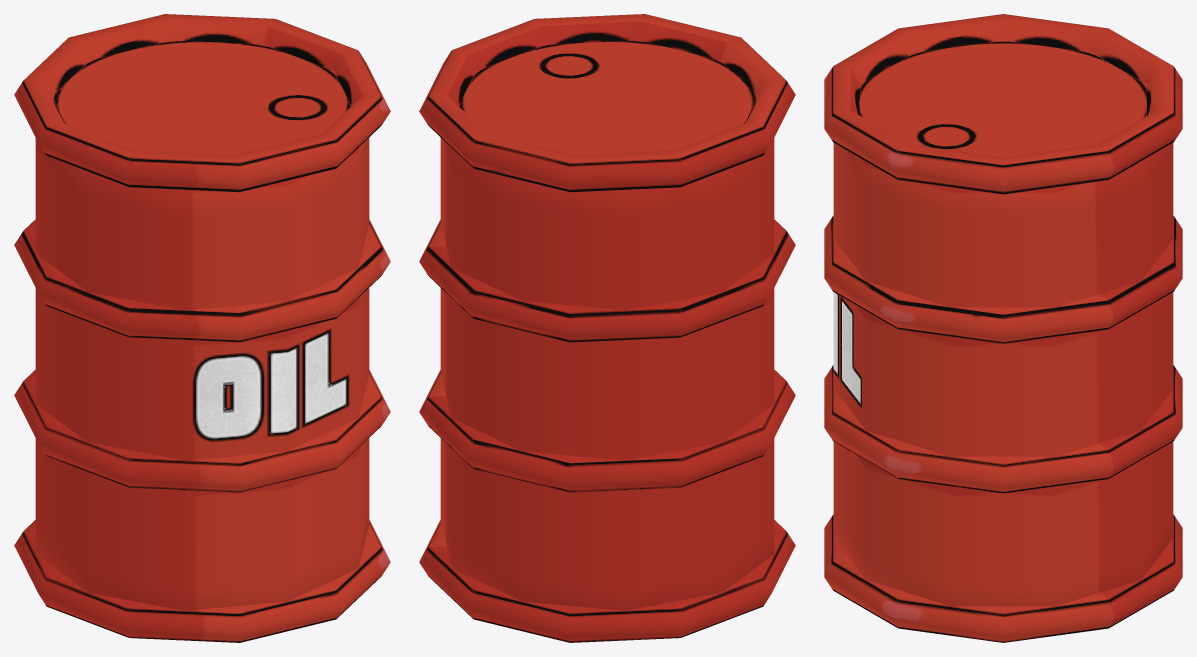
File: Oil_Barrel_Low_Poly.glb
The picture shows the model from 3 angles, left to right: view 1: azimuth 30°, elevation 25°; view 2: azimuth 150°, elevation 25°; view 3: azimuth 270°, elevation 25°; orthographic projection.
Visible parts, largest first — view 1: Barrel; view 2: Barrel; view 3: Barrel.
Boxes of the visible parts, x1=… form: Barrel: x1=14, y1=14, x2=390, y2=642; Barrel: x1=419, y1=14, x2=795, y2=642; Barrel: x1=824, y1=14, x2=1182, y2=642.
Size of the model in its own units: 2.22 by 3.11 by 2.11.
Materials: 1 (1 with a texture image).
